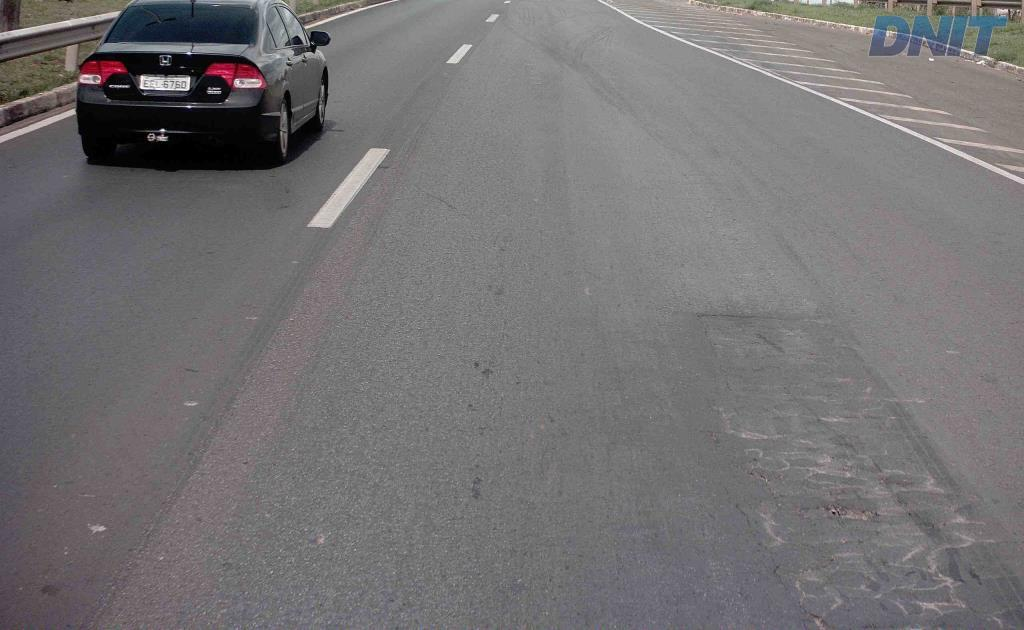crack: (939, 547, 967, 586)
pothole: (814, 500, 887, 525)
